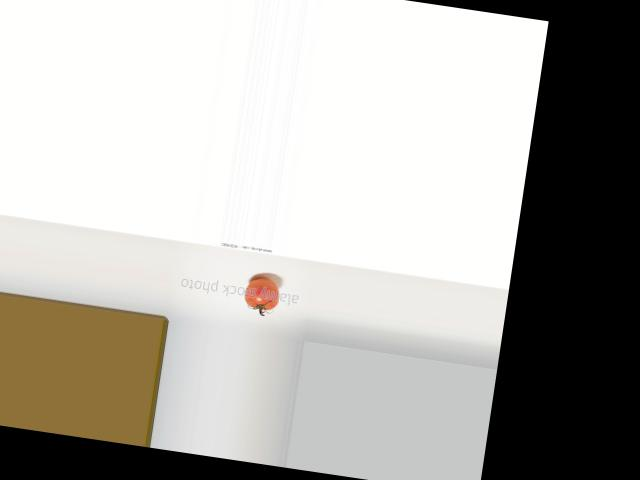tomato: (242, 275, 281, 312)
